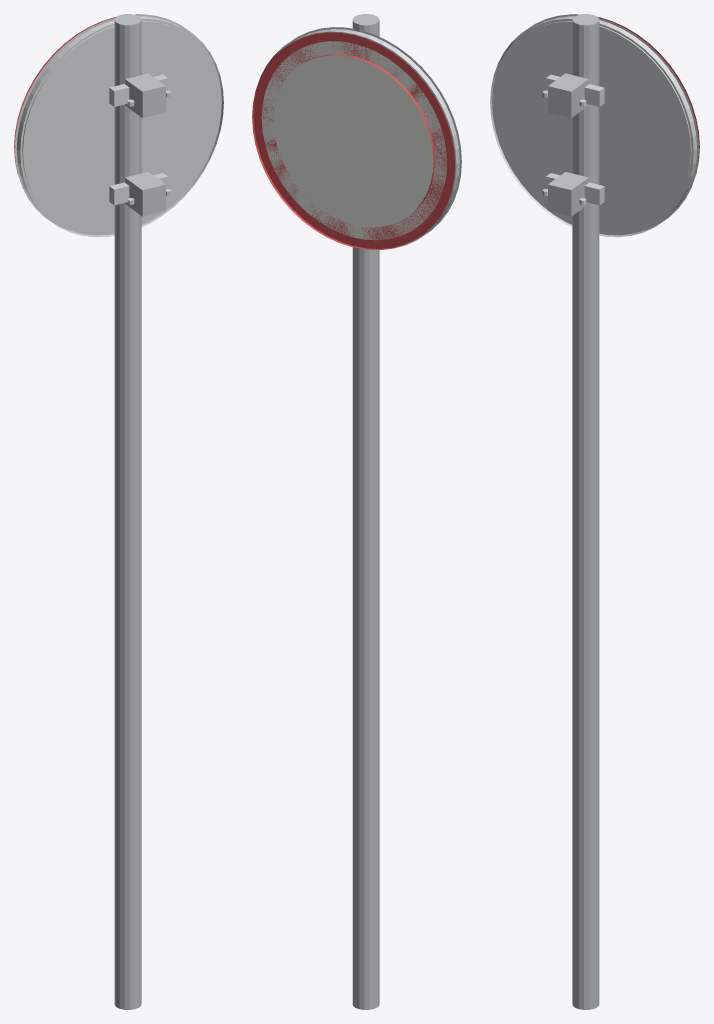
File: Polish_road_sign_post_blank_round_sign.glb
3 renders of one model, left to right at view 1: azimuth 30°, elevation 25°; view 2: azimuth 150°, elevation 25°; view 3: azimuth 330°, elevation 25°, orthographic.
Visible parts, largest first — view 1: Sign_Plate_Back, Round_Galvanised_Sign_Post, Aluminium_Perimeter_Rim, Rear_Mounting_Block_1, Rear_Mounting_Block_2, Rear_Clamp_Strap_2, Rear_Clamp_Strap_1; view 2: Replaceable_White_Sign_Face, Round_Galvanised_Sign_Post, Red_Border_Ring_6cm, Sign_Plate_Back, Aluminium_Perimeter_Rim; view 3: Sign_Plate_Back, Round_Galvanised_Sign_Post, Aluminium_Perimeter_Rim, Rear_Mounting_Block_1, Rear_Mounting_Block_2, Rear_Clamp_Strap_2, Rear_Clamp_Strap_1.
Boxes of the visible parts, box(x1,y1,x2,y2) form: Sign_Plate_Back: box(16, 16, 221, 235); Round_Galvanised_Sign_Post: box(114, 14, 141, 1009); Aluminium_Perimeter_Rim: box(14, 14, 223, 237); Rear_Mounting_Block_1: box(125, 172, 165, 216); Rear_Mounting_Block_2: box(125, 73, 165, 117); Rear_Clamp_Strap_2: box(109, 74, 167, 106); Rear_Clamp_Strap_1: box(109, 173, 167, 205); Replaceable_White_Sign_Face: box(261, 41, 446, 240); Round_Galvanised_Sign_Post: box(352, 14, 379, 1009); Red_Border_Ring_6cm: box(252, 32, 455, 249); Sign_Plate_Back: box(287, 29, 459, 231); Aluminium_Perimeter_Rim: box(260, 27, 461, 249); Sign_Plate_Back: box(492, 16, 697, 235); Round_Galvanised_Sign_Post: box(572, 14, 599, 1009); Aluminium_Perimeter_Rim: box(490, 14, 699, 237); Rear_Mounting_Block_1: box(548, 172, 588, 216); Rear_Mounting_Block_2: box(548, 73, 588, 117); Rear_Clamp_Strap_2: box(546, 74, 604, 106); Rear_Clamp_Strap_1: box(546, 173, 604, 205).
Bounding box in the file's own units: 0.608 × 2.8 × 0.203.
